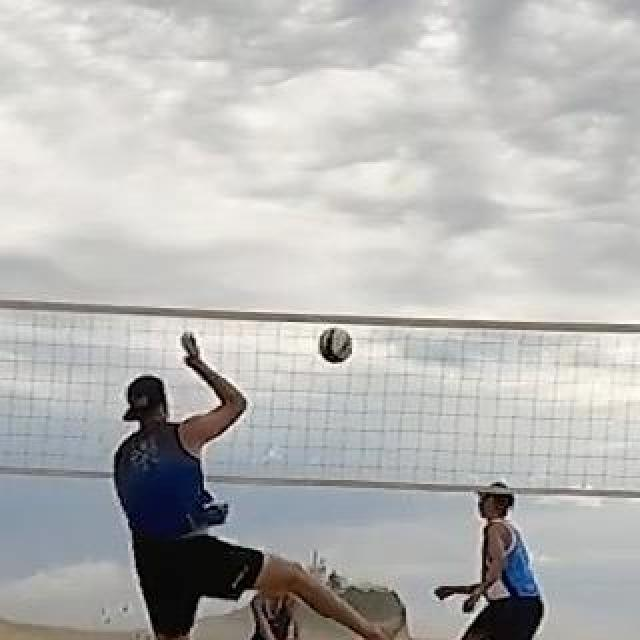volleyball: (319, 331, 351, 365)
